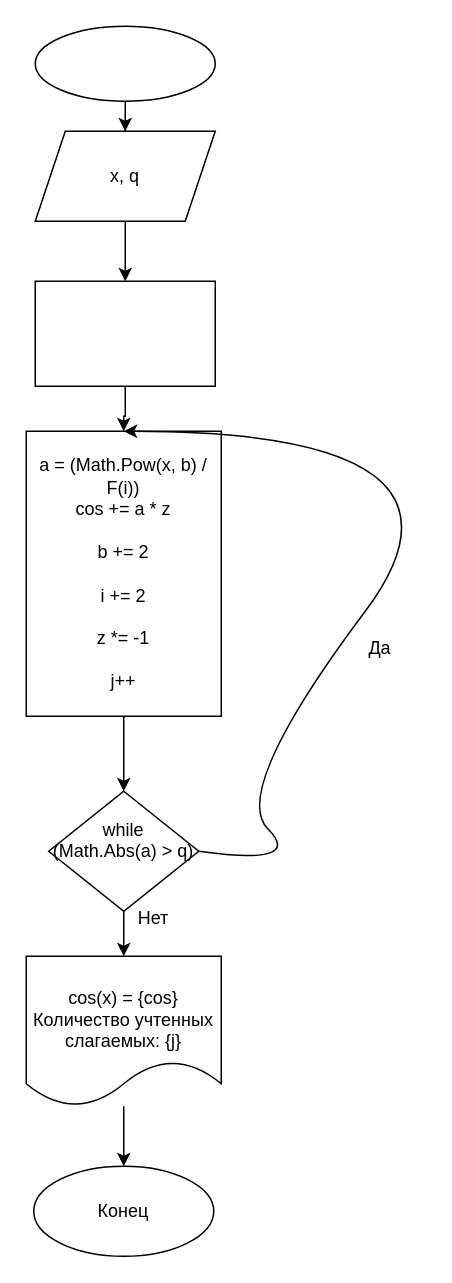
Image size: 452x1283. Some labels were removed from this diagram. Each missing label, with the centre of its shape:
cos = 1 b = 2 z = -1 j = 0 i = 1: (x=124, y=333)
Начало: (x=124, y=63)
